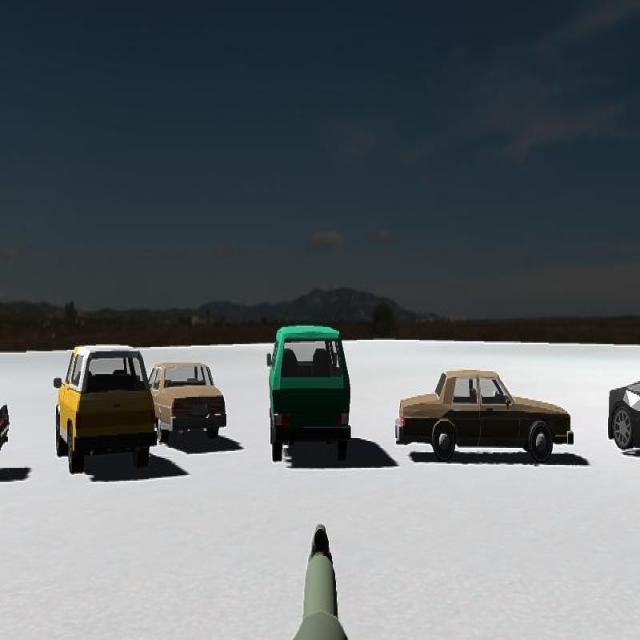car: (395, 368, 575, 464), (53, 341, 157, 474), (267, 323, 353, 463), (148, 360, 227, 449), (606, 358, 640, 466)
